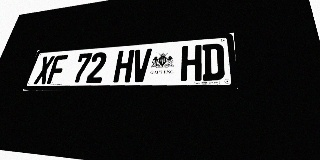2: (86, 52, 108, 83)
7: (71, 53, 93, 83)
D: (202, 43, 225, 81)
F: (46, 55, 68, 84)
H: (180, 45, 202, 81), (113, 50, 135, 83)
V: (130, 48, 152, 82)
X: (33, 56, 55, 84)
